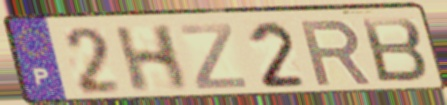2: (61, 25, 125, 97), (246, 19, 309, 89)
B: (358, 15, 431, 85)
H: (111, 22, 191, 95)
R: (296, 18, 375, 88)
Z: (176, 22, 249, 92)
